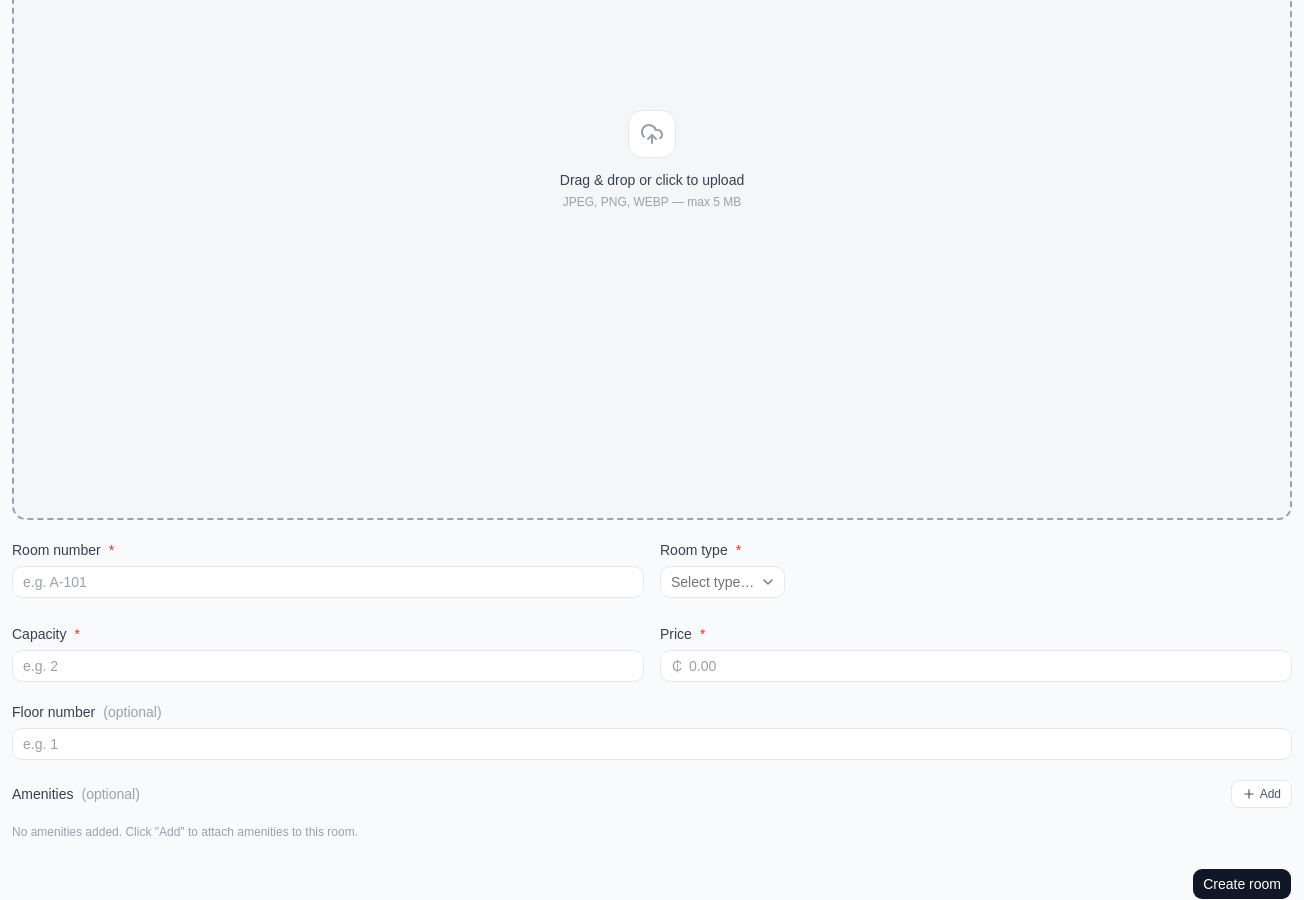
CreateRoomForm › blocks submission and shows field errors when required fields are empty
(page scrolled)
Click the button "Create room".
click(1242, 884)  # box top-left (1192, 868), bottom-right (1292, 899)
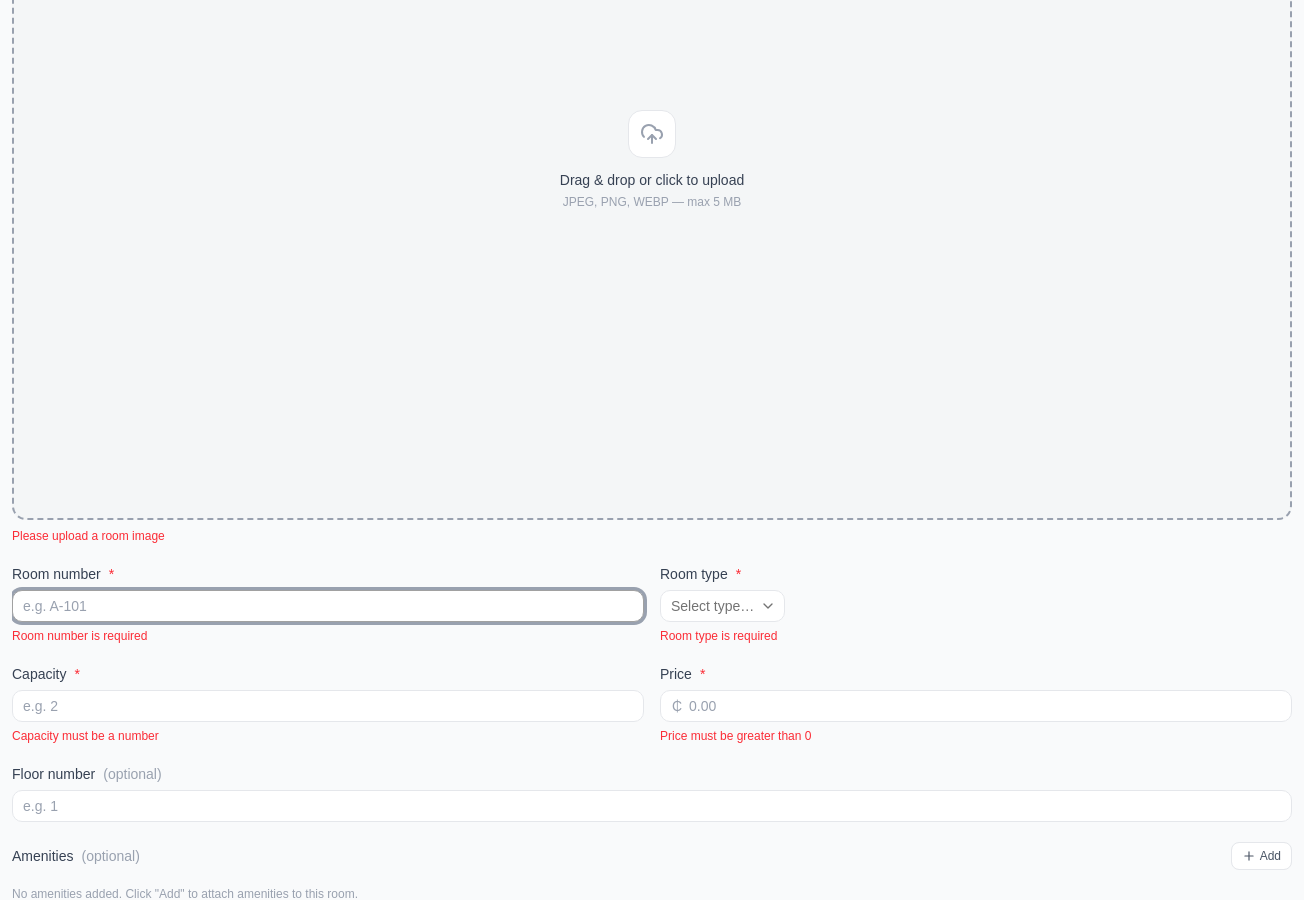
Now the text "Please upload a room image" is shown, box top-left (12, 529), bottom-right (165, 543)
Now the text "Room number is required" is shown, box top-left (12, 629), bottom-right (147, 643)
Now the text "Room type is required" is shown, box top-left (660, 629), bottom-right (777, 643)
